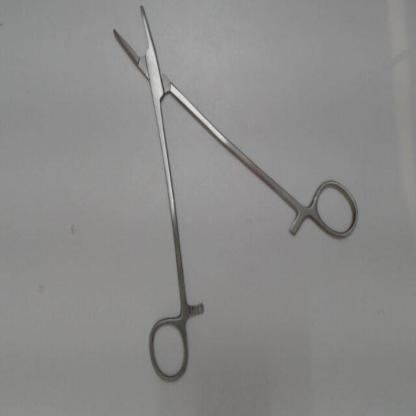8 Mayo Needle Holder: (100, 1, 367, 392)
